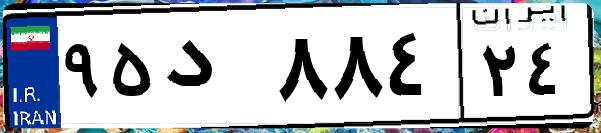2: (475, 38, 525, 113)
4: (385, 28, 445, 110), (525, 38, 570, 115)
5: (110, 28, 158, 98)
8: (270, 28, 330, 110), (330, 28, 385, 110)
9: (57, 26, 110, 100)
د: (158, 20, 270, 120)
